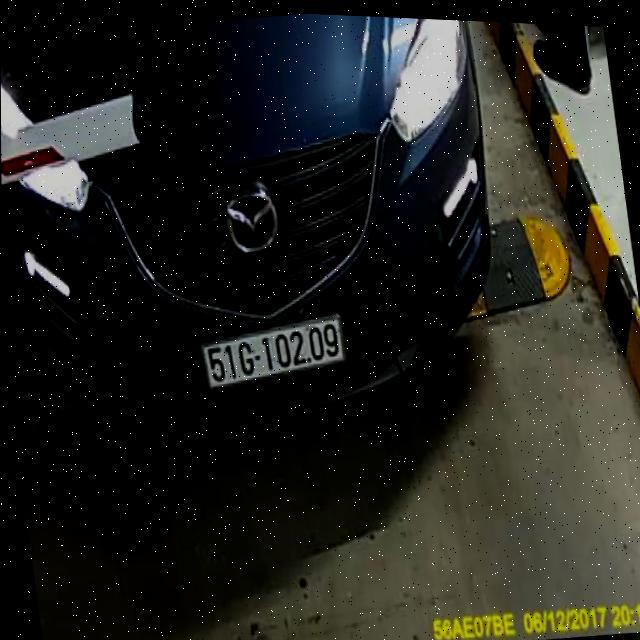car: (0, 0, 531, 469)
plate: (189, 302, 360, 401)
